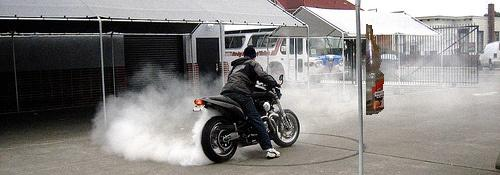tampered: (367, 25, 384, 115)
